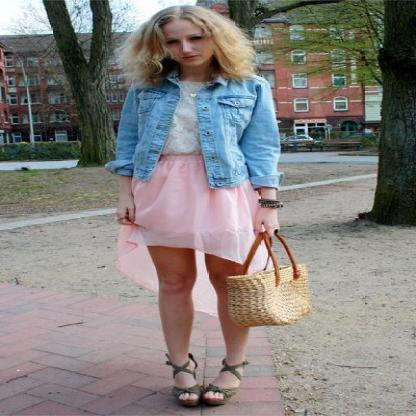bag: (237, 230, 311, 330)
jacket: (112, 74, 288, 194)
shirt: (165, 79, 210, 153)
shoe: (162, 354, 240, 411)
skirt: (116, 141, 274, 316)
